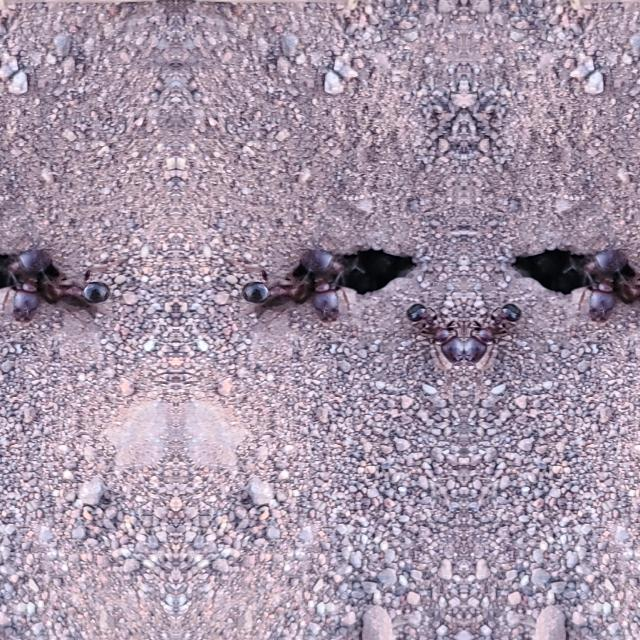Messor: (397, 284, 463, 371), (463, 284, 529, 371), (237, 270, 325, 320), (25, 270, 113, 320), (302, 258, 346, 318), (4, 258, 48, 318), (580, 258, 624, 318), (601, 270, 640, 319)
